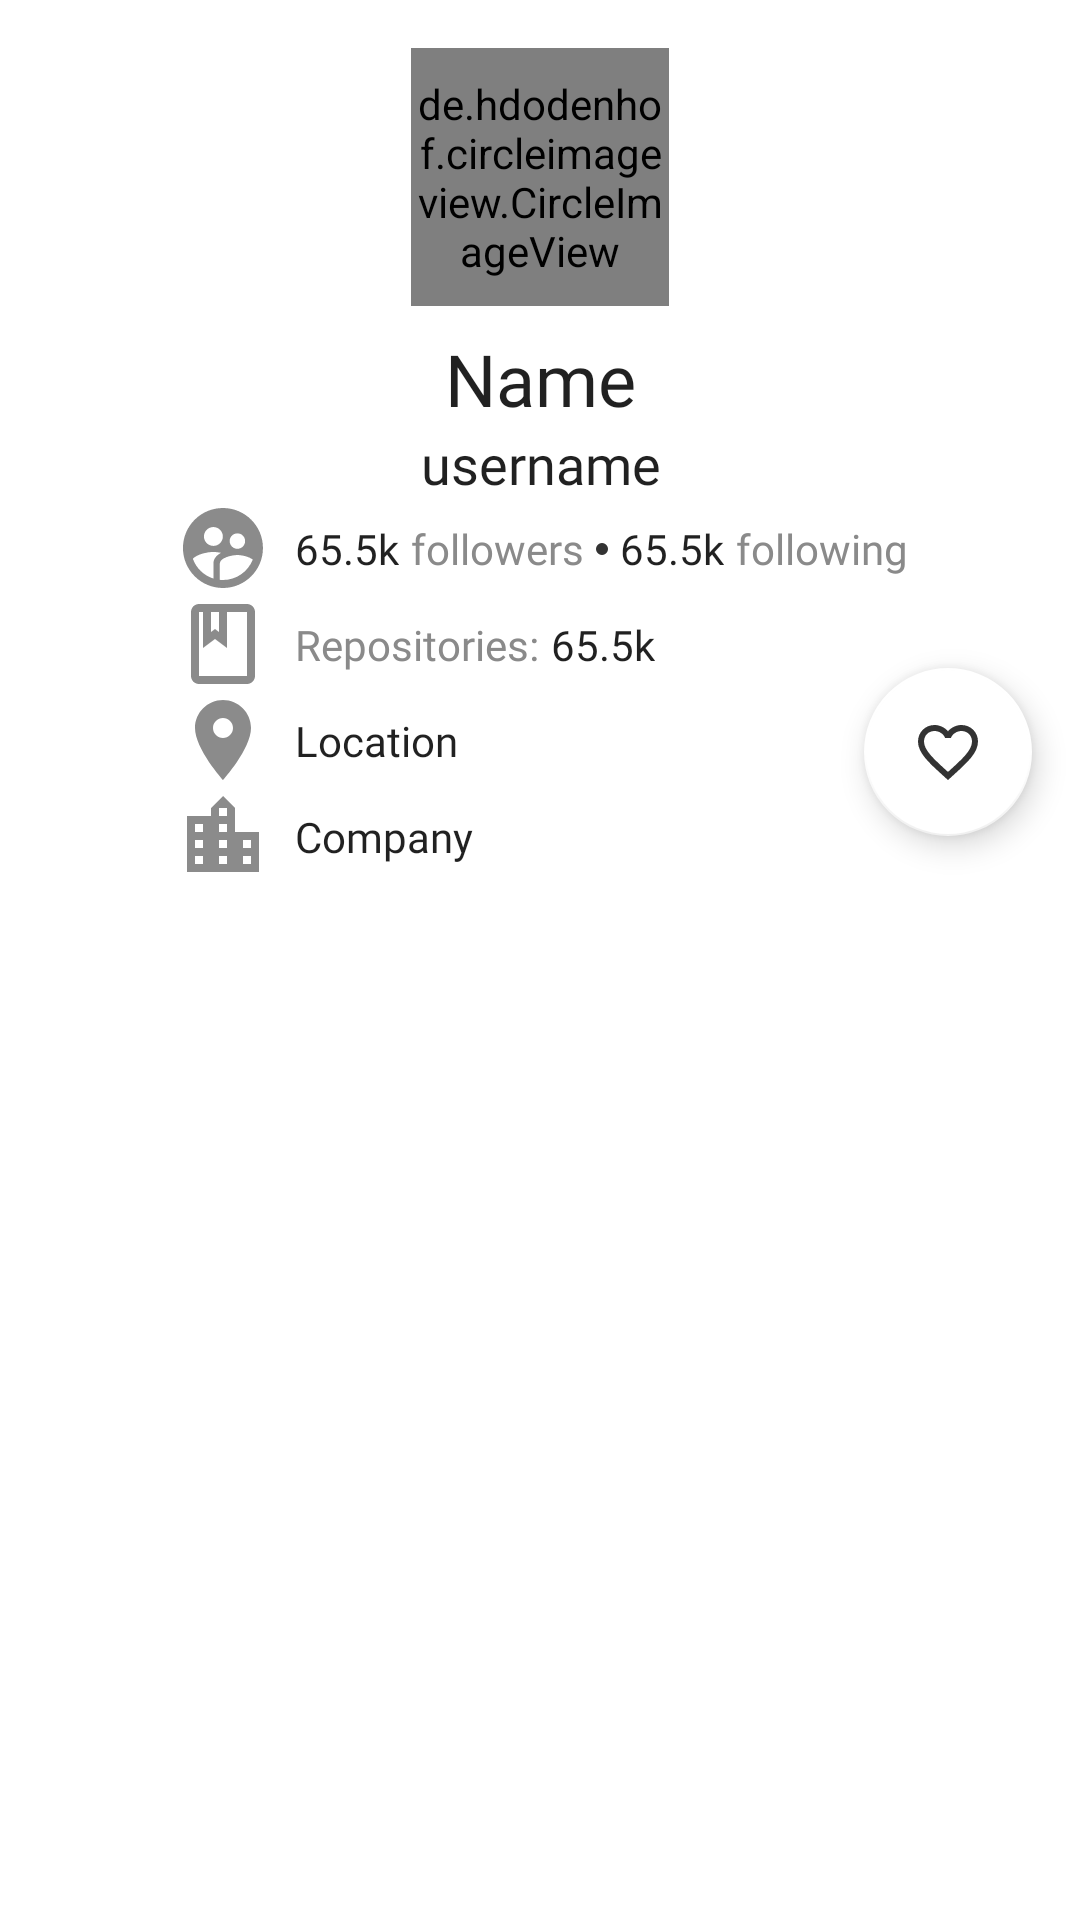

Point at icon controls on the screen. Image size 1080 × 1920, points as (x=x, y=y).
repository: (x=223, y=644)
